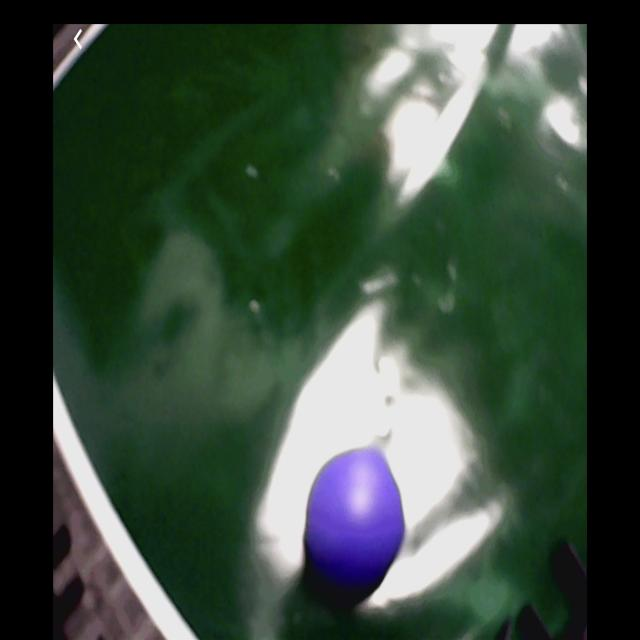ball: (306, 437, 407, 590)
